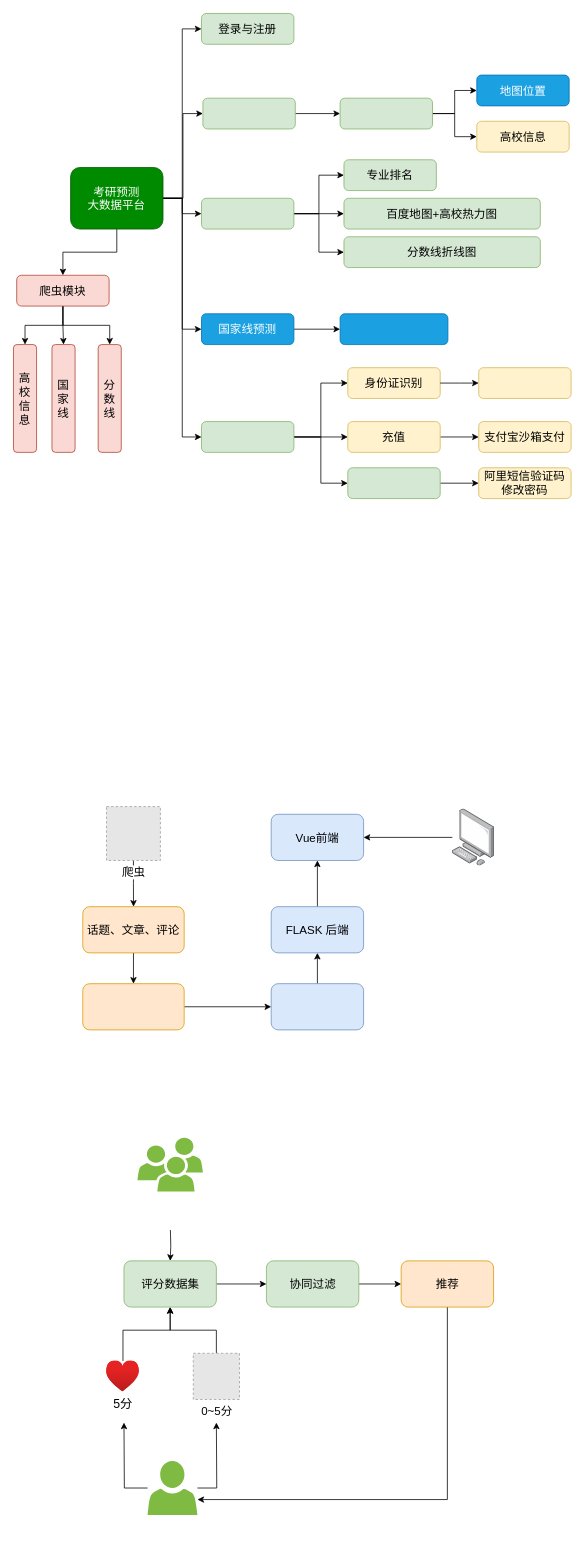
Image size: 585x1548. Some labels were removed from this diagram. Grey dashed boxes stand in for pictures. The shapes that lost their labels are listed below. From the top down, each one's centre as x and y in pixels, then its label:
the point at 248,113: 首页
the point at 386,113: 高校卡片
the point at 247,213: 可视化
the point at 393,329: 线性回归
the point at 524,382: 百度AI图像识别
the point at 247,436: 设置
the point at 393,483: 修改个人信息
the point at 473,837: 浏览器访问
the point at 133,1006: 情感分析
the point at 317,1006: MySQL数据库
the point at 170,1164: N个其他用户的评分
the point at 172,1488: 用户
